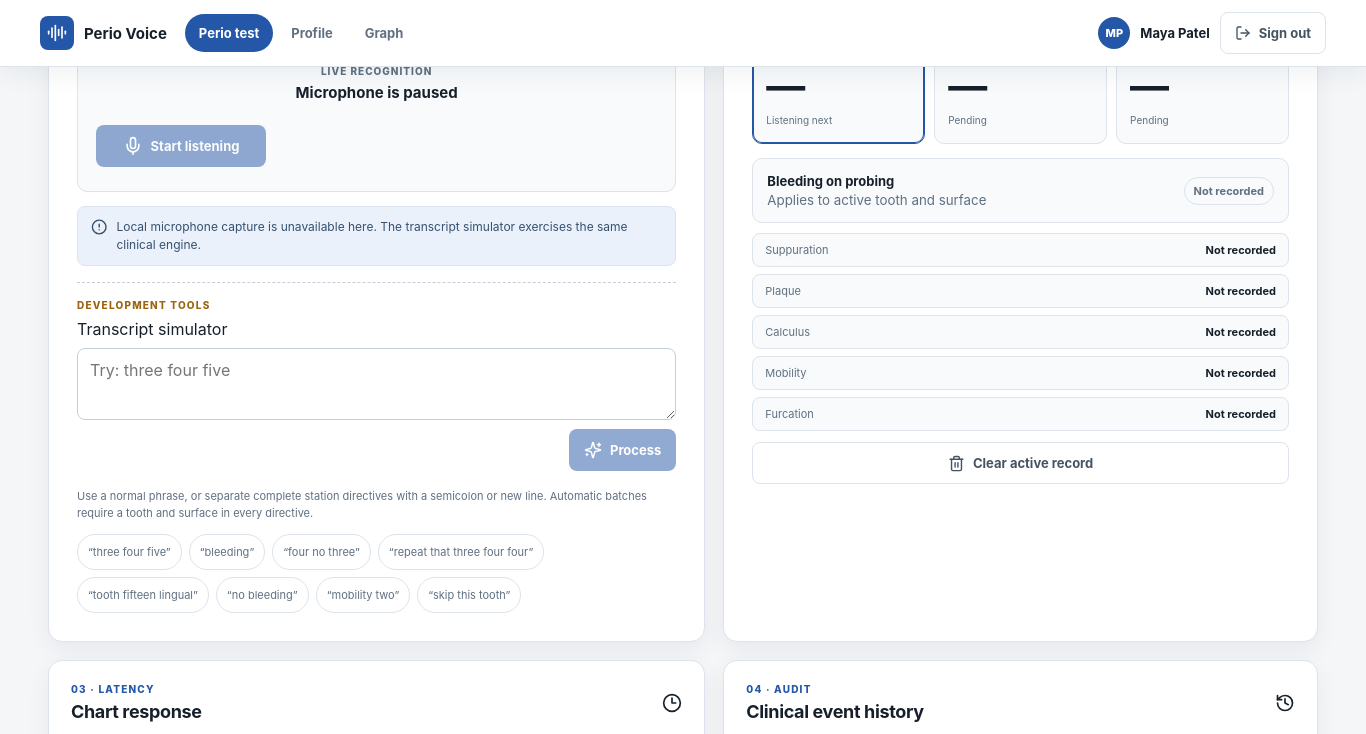
held confirmations › discards a held utterance without writing anything
(page scrolled)
Type "no no bleeding" into the text box labelled "Transcript simulator" at (377, 384), box [77,348,676,420]
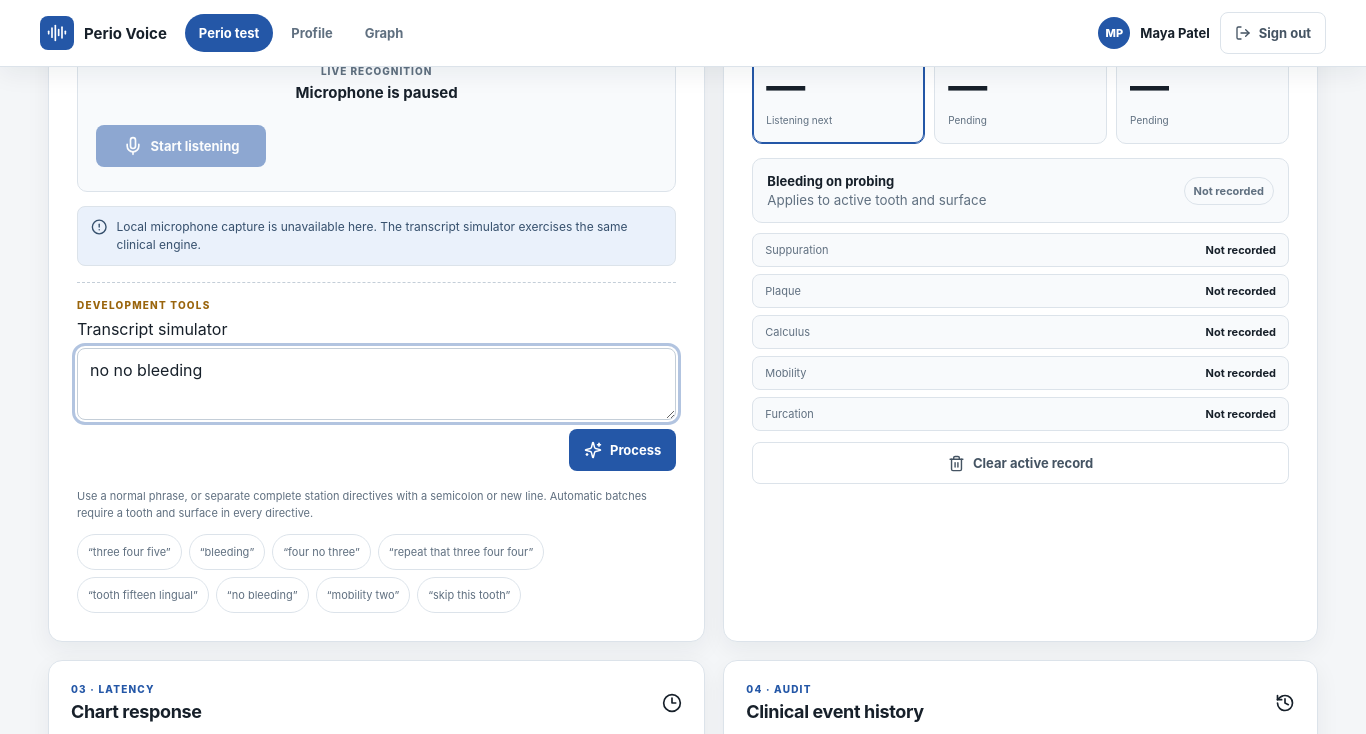
Click the button "Process" at (623, 450), box [569,430,676,472]
(page scrolled)
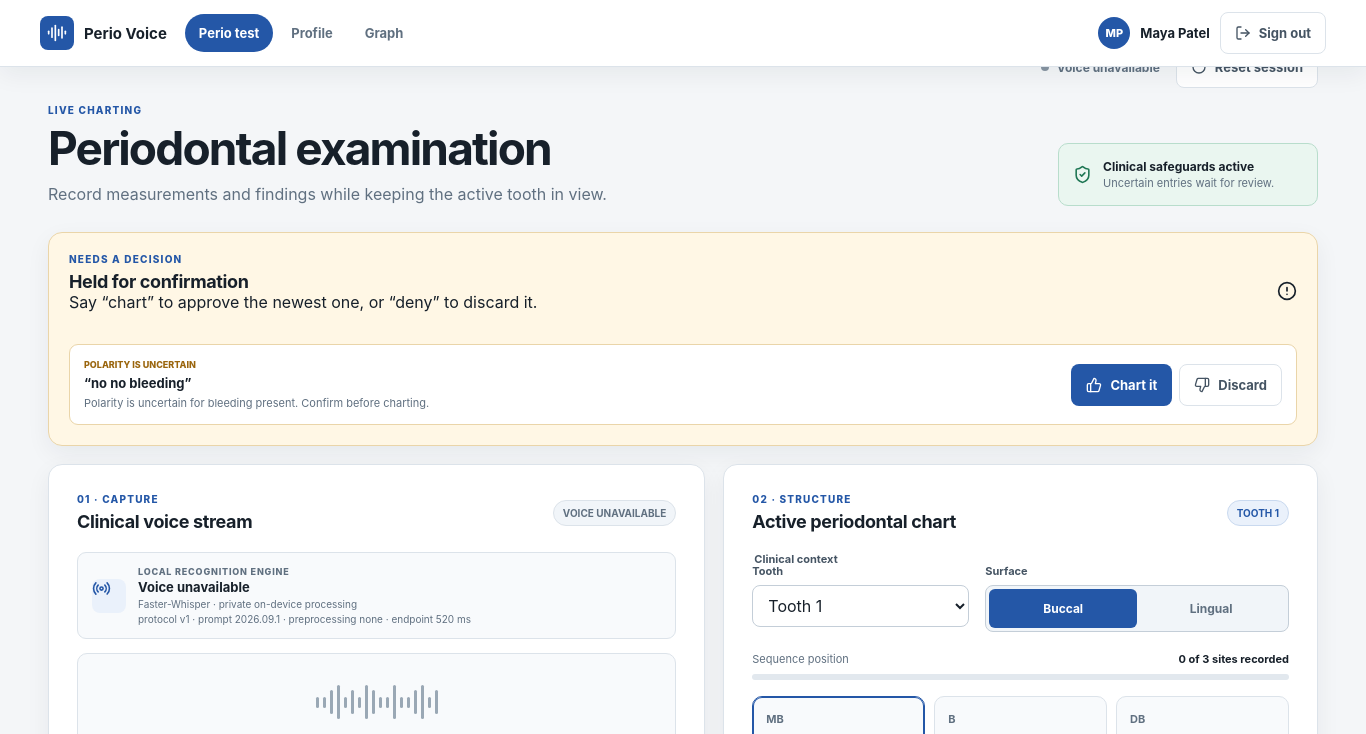
Click the button "Discard" at (1231, 385), box [1179,364,1282,406]
(page scrolled)
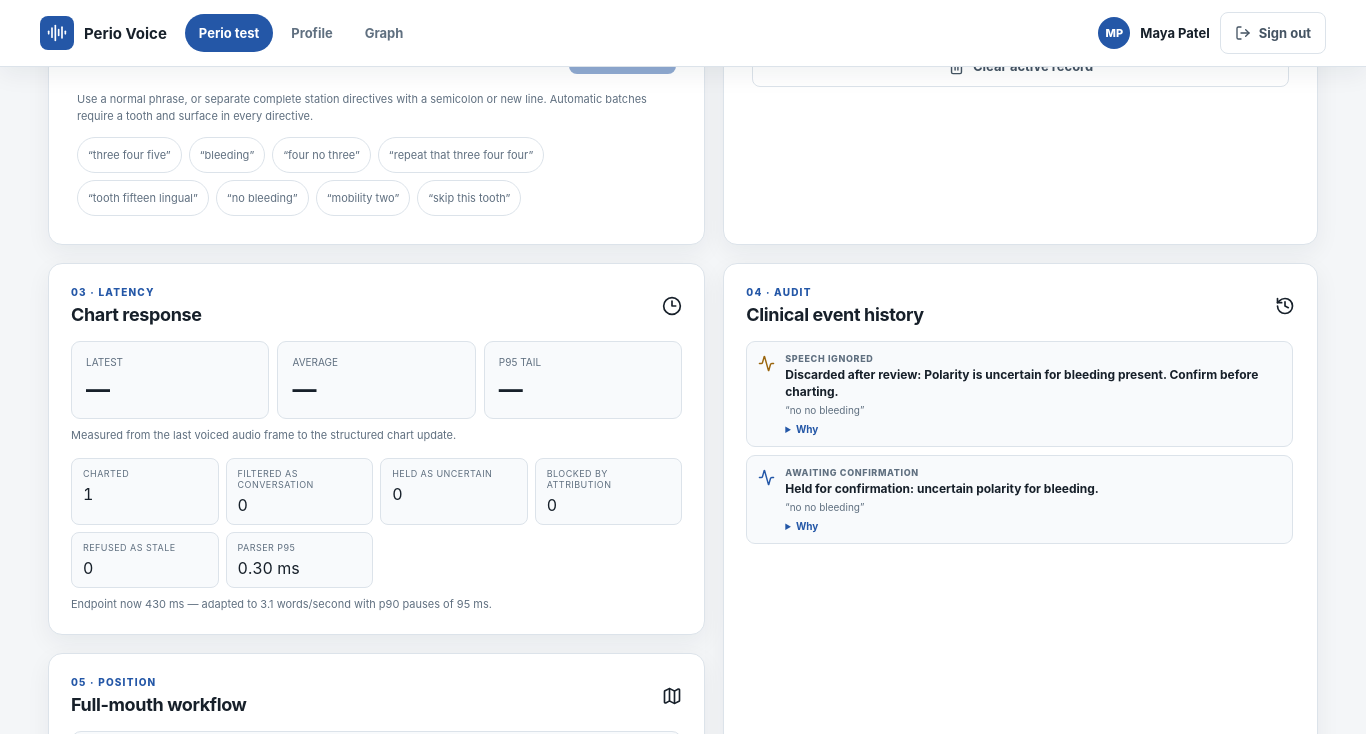
Check: the text "Discarded after review" is shown, box [785,368,1258,399]
